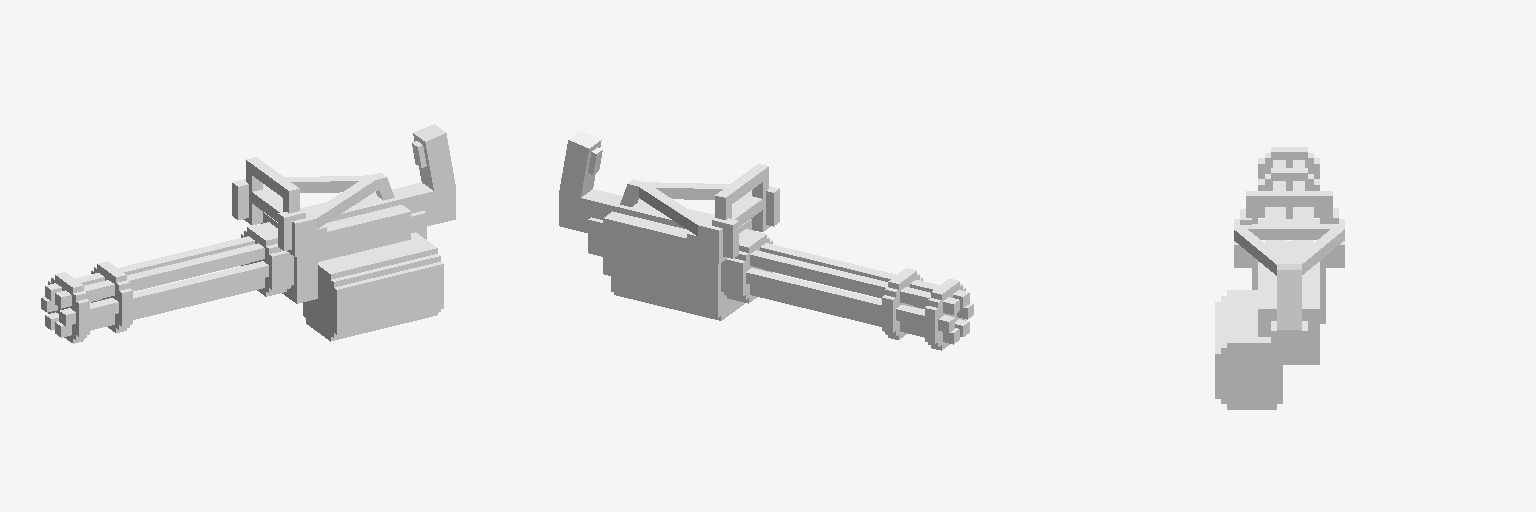
File: minigun.obj
3 renders of one model, left to right at view 1: azimuth 30°, elevation 25°; view 2: azimuth 150°, elevation 25°; view 3: azimuth 270°, elevation 25°, orthographic.
Parts seen in each view (by area): view 1: Shape6, Shape1, Shape16, Shape15, Shape4, Shape7, Shape5, Shape18, Shape9, Shape14, Shape2, Shape23 (+10 smaller); view 2: Shape1, Shape17, Shape14, Shape4, Shape19, Shape9, Shape15, Shape5, Shape2, Shape24, Shape22, Shape23 (+8 smaller); view 3: Shape5, Shape1, Shape7, Shape22, Shape9, Shape38, Shape23, Shape24, Shape4, Shape2, Shape6, Shape3.
Part boxes in pixels (x1,y1,x2,y2): Shape6: (331,262,443,334); Shape1: (303,191,410,261); Shape16: (59,261,268,325); Shape15: (55,243,264,308); Shape4: (306,182,455,225); Shape7: (318,232,437,284); Shape5: (303,254,440,337); Shape18: (55,278,264,337); Shape9: (413,124,455,194); Shape14: (45,236,254,300); Shape2: (261,212,317,303); Shape23: (308,176,376,228); Shape1: (603,198,711,296); Shape17: (746,268,954,332); Shape14: (750,250,959,314); Shape4: (559,189,708,232); Shape19: (750,285,959,344); Shape9: (559,131,601,200); Shape15: (760,243,969,307); Shape5: (611,276,738,317); Shape2: (697,219,753,310); Shape24: (638,184,707,235); Shape22: (698,190,765,241); Shape23: (642,182,729,199); Shape5: (1221,296,1282,403); Shape1: (1258,262,1319,364); Shape7: (1227,290,1270,353); Shape22: (1234,219,1344,239); Shape9: (1277,264,1301,329); Shape38: (1258,191,1319,206); Shape23: (1234,227,1288,275); Shape24: (1290,227,1344,274); Shape4: (1277,257,1301,363); Shape2: (1252,246,1325,323); Shape6: (1215,302,1226,398); Shape3: (1271,321,1307,364).
Bounding box in the file's own units: 2.31 × 0.8703 × 0.6562.